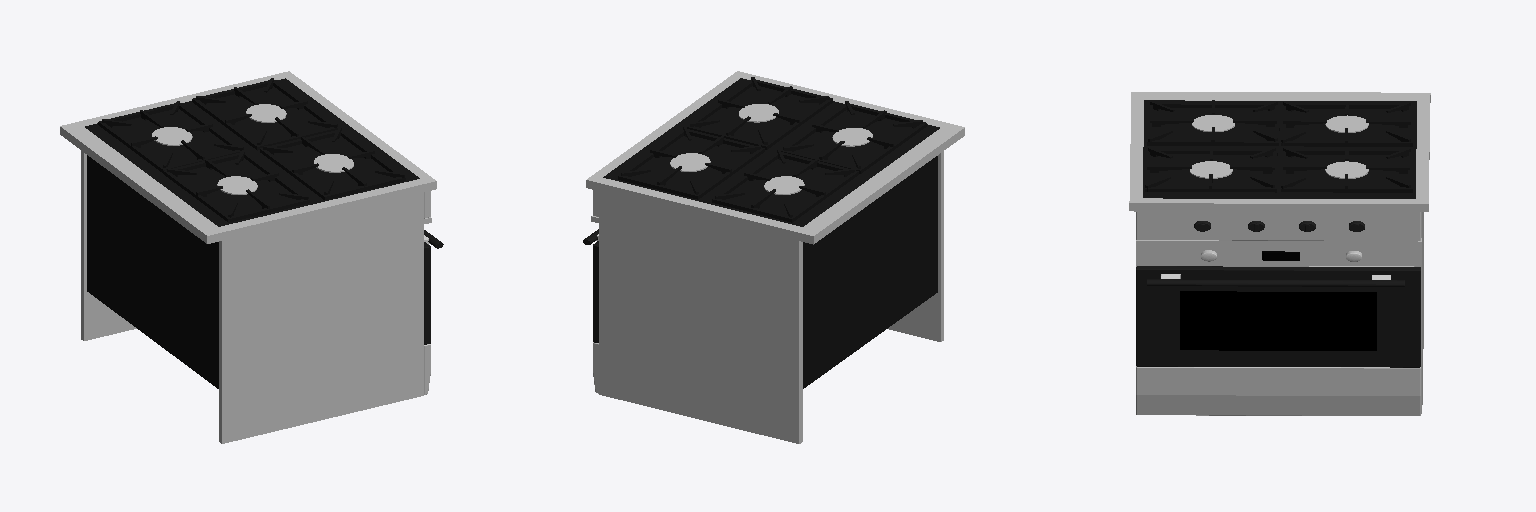
Rendered from left_gaz_m2.obj.
3 views of the same model, side by side, from view 1: azimuth 30°, elevation 25°; view 2: azimuth 150°, elevation 25°; view 3: azimuth 270°, elevation 25° (orthographic).
Visible parts, largest first — view 1: Oven_Door_Mesh.087; view 2: Oven_Door_Mesh.087; view 3: Oven_Door_Mesh.087.
Boxes of the visible parts, <box> form: Oven_Door_Mesh.087: <box>60,71,443,443</box>; Oven_Door_Mesh.087: <box>583,71,964,443</box>; Oven_Door_Mesh.087: <box>1129,92,1430,415</box>.
Bounding box in the file's own units: 379 × 325 × 402.